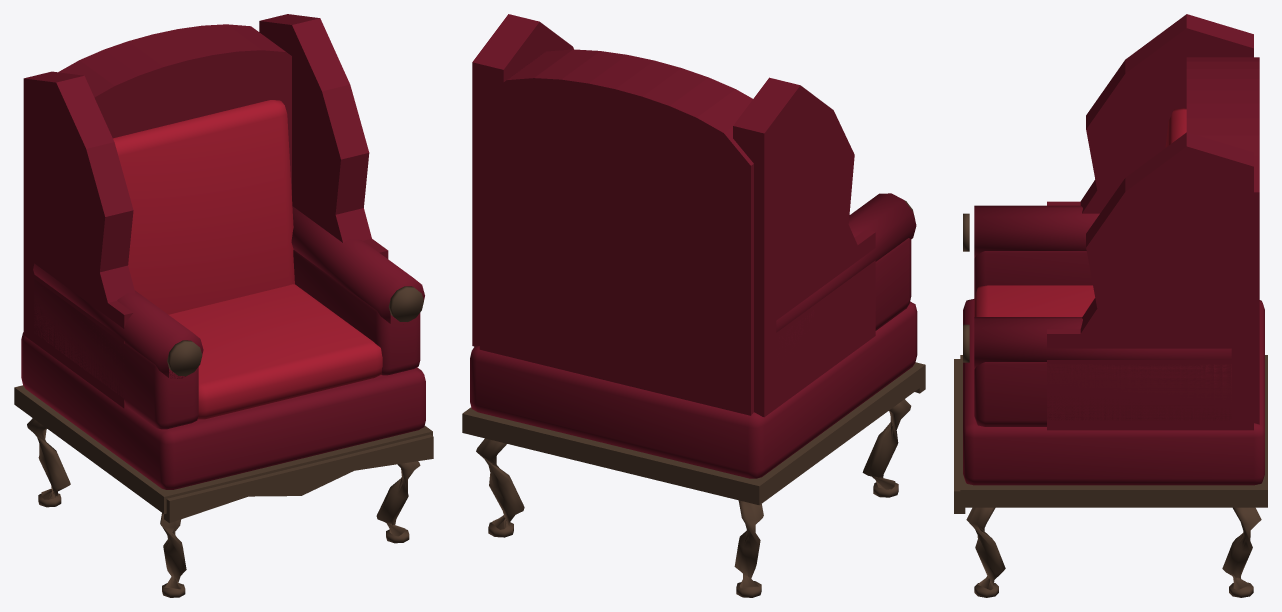
The model's file is armchair.glb.
The picture shows the model from 3 angles, left to right: view 1: azimuth 30°, elevation 25°; view 2: azimuth 150°, elevation 25°; view 3: azimuth 270°, elevation 25°; orthographic projection. The views are drawn at different scales.
Parts seen in each view (by area): view 1: armchair; view 2: armchair; view 3: armchair.
Boxes of the visible parts, left/top/right/bottom form: armchair: left=14, top=14, right=433, bottom=597; armchair: left=462, top=14, right=925, bottom=597; armchair: left=954, top=14, right=1267, bottom=597.
Bounding box in the file's own units: 0.57 × 0.9025 × 0.561.
